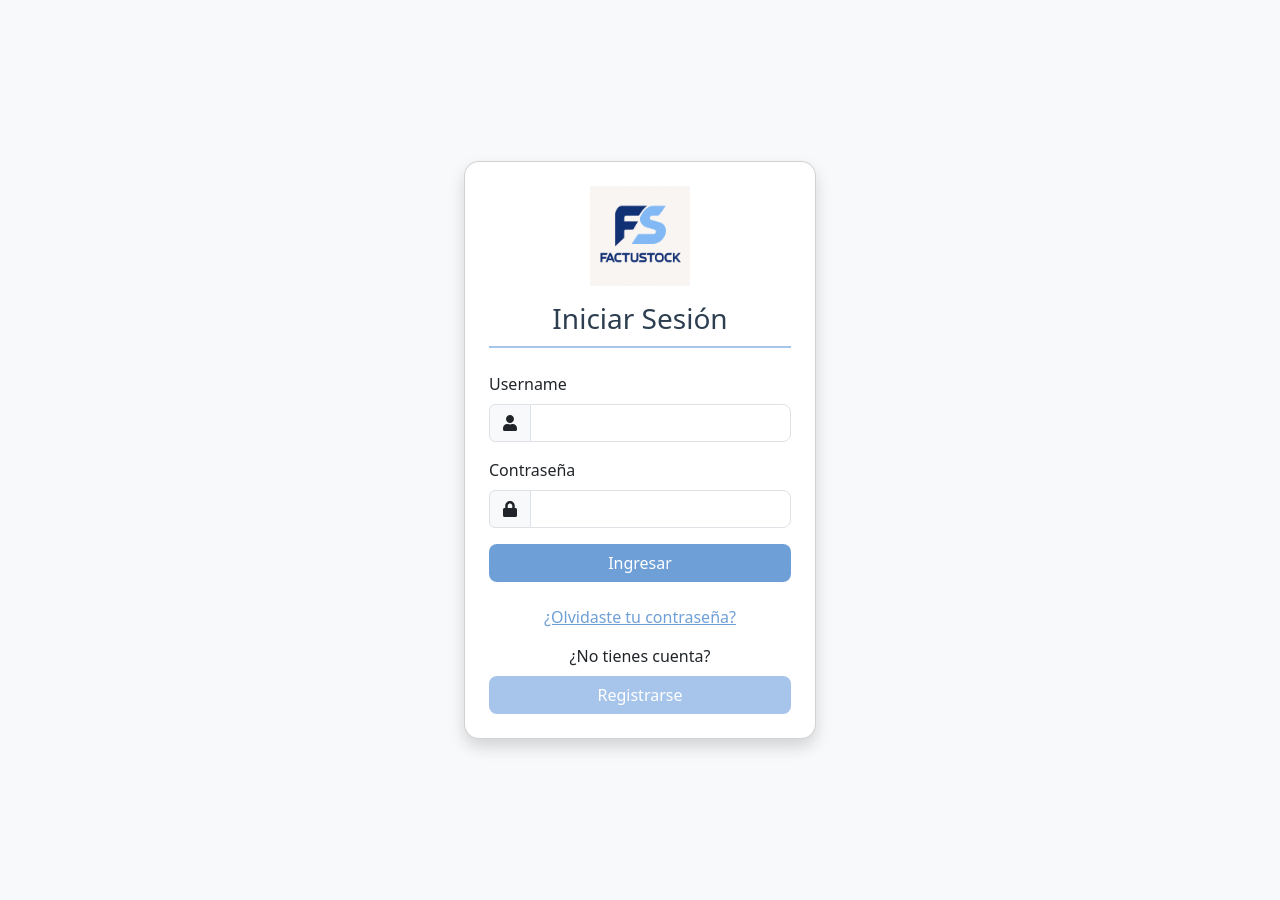
it: Login › muestra error cuando falla el envío del correo de recuperación
The width and height of the screenshot is (1280, 900).
Click the button "¿Olvidaste tu contraseña?" at (640, 617), box [531,598,749,636]
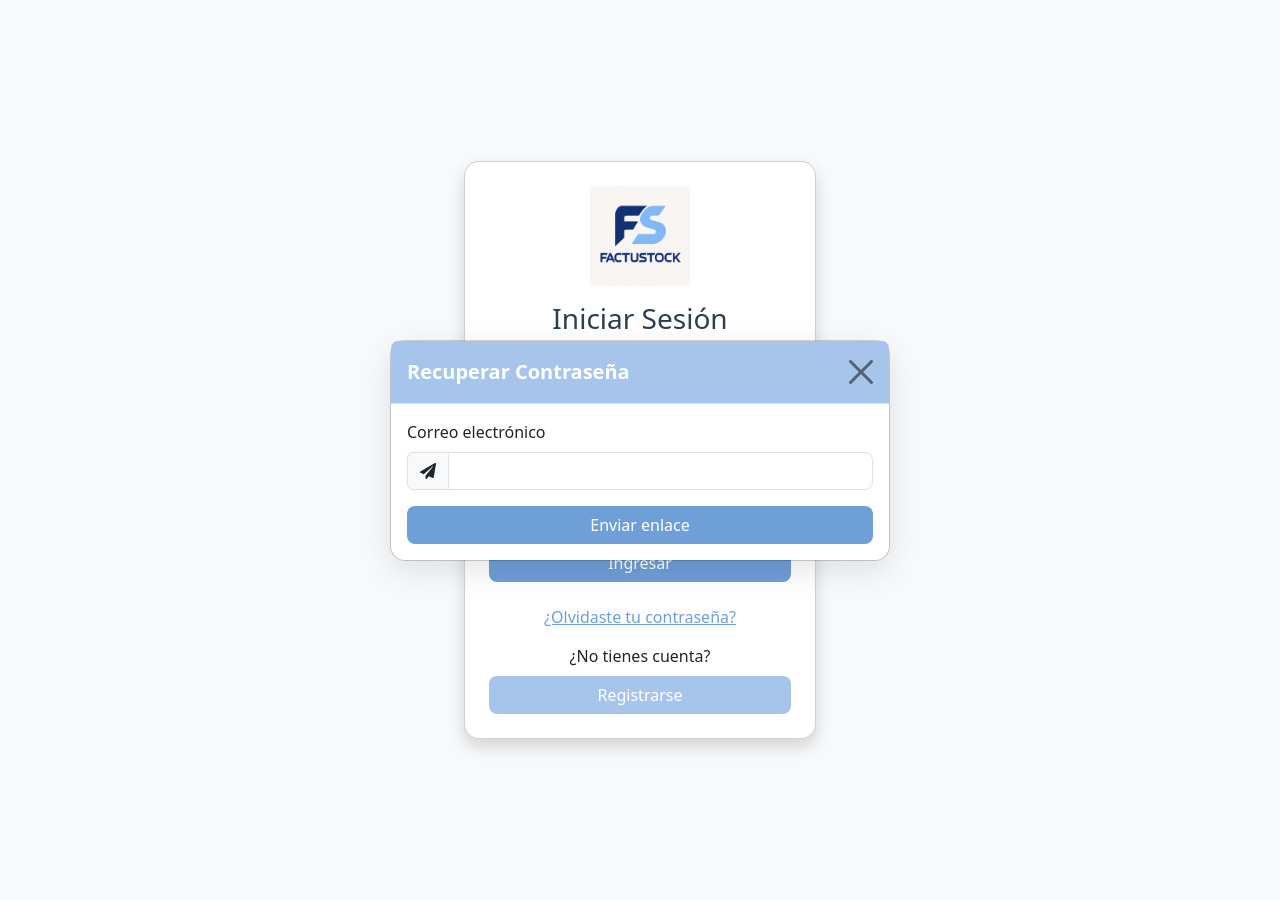
Type "fail@example.com" into the field labelled "Correo electrónico" at (660, 470), box [448,452,873,490]
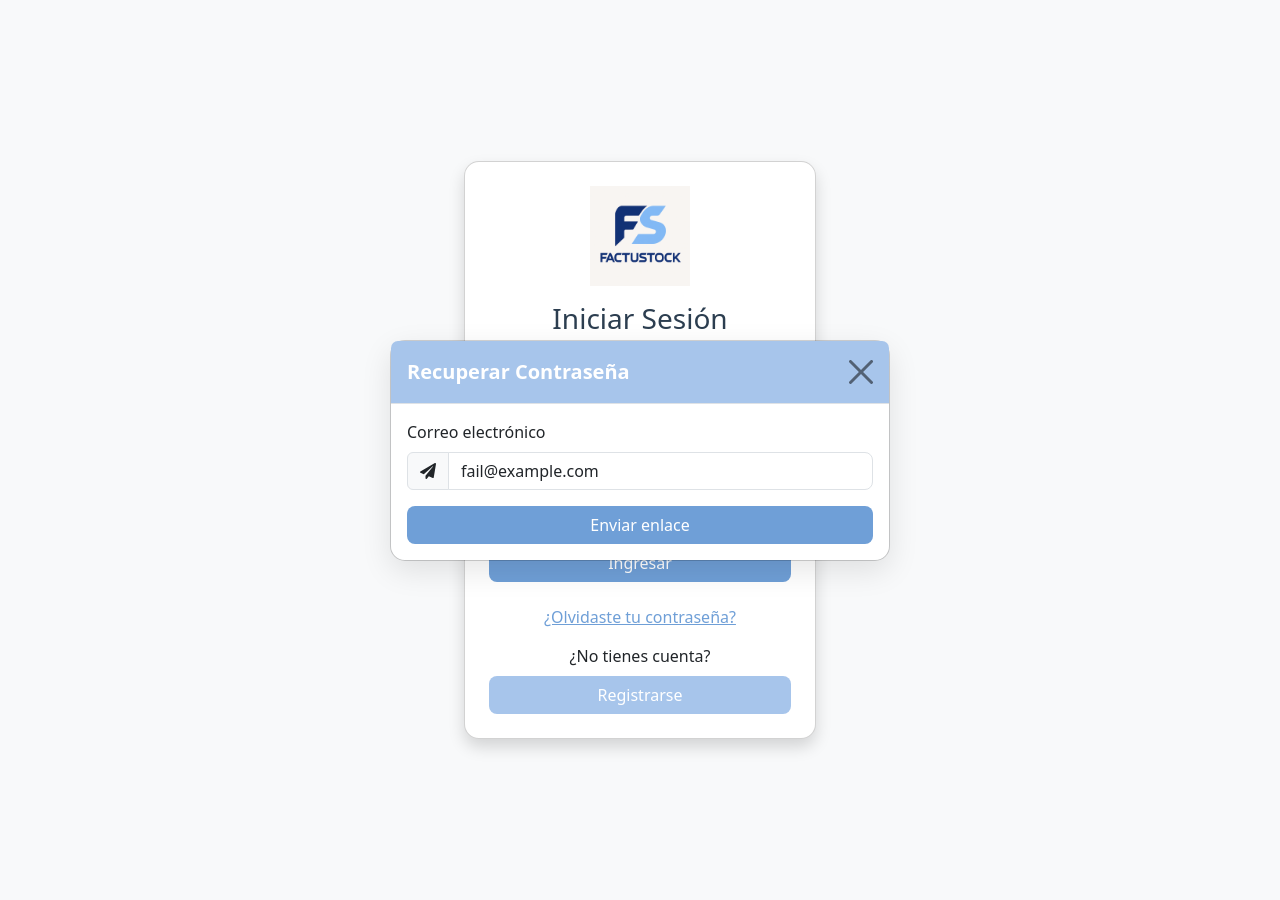
Click the button "Enviar enlace" at (640, 524), box [407,506,873,544]
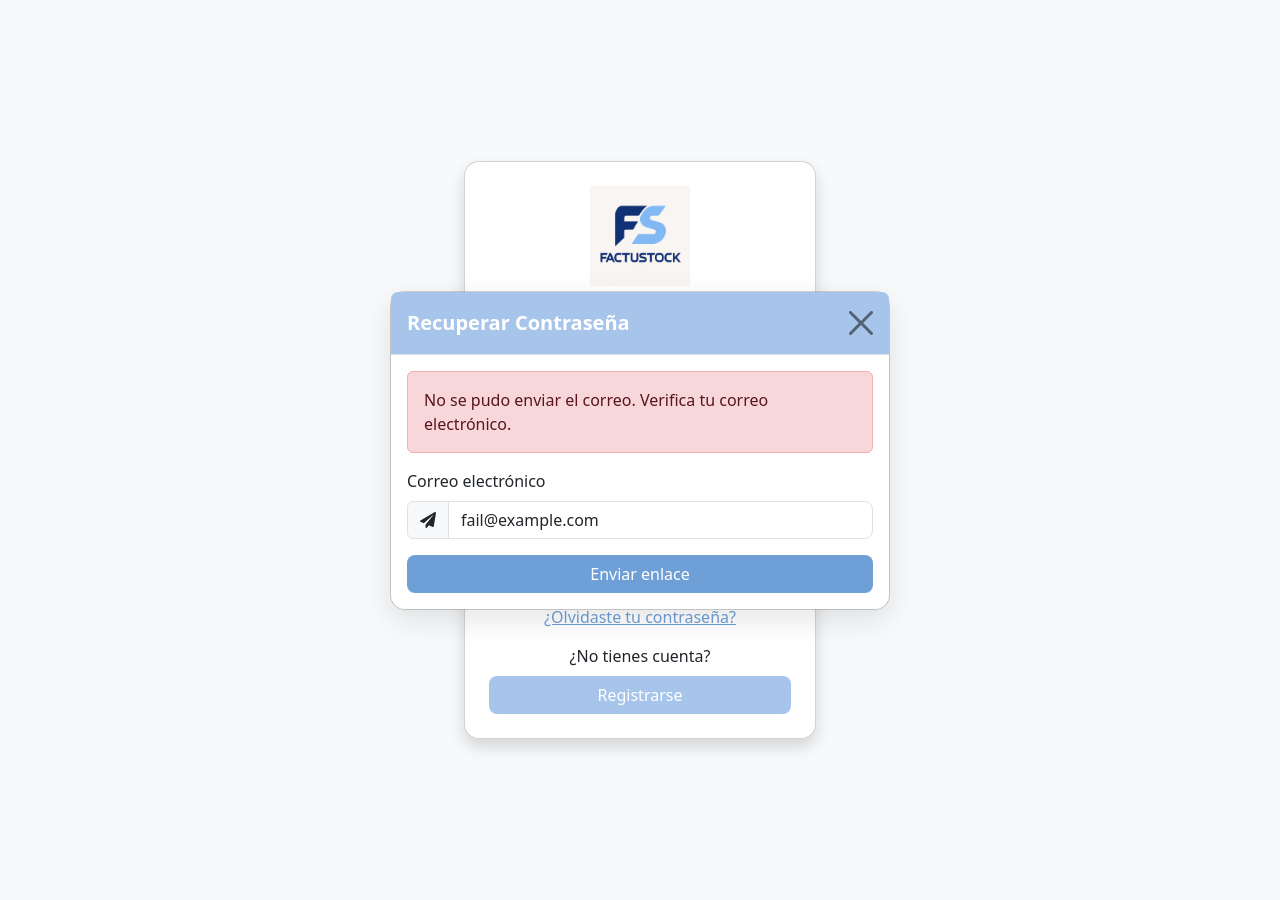
Expected: the text "No se pudo enviar el correo. Verifica tu correo electrónico." is shown, [407,370,873,452]
